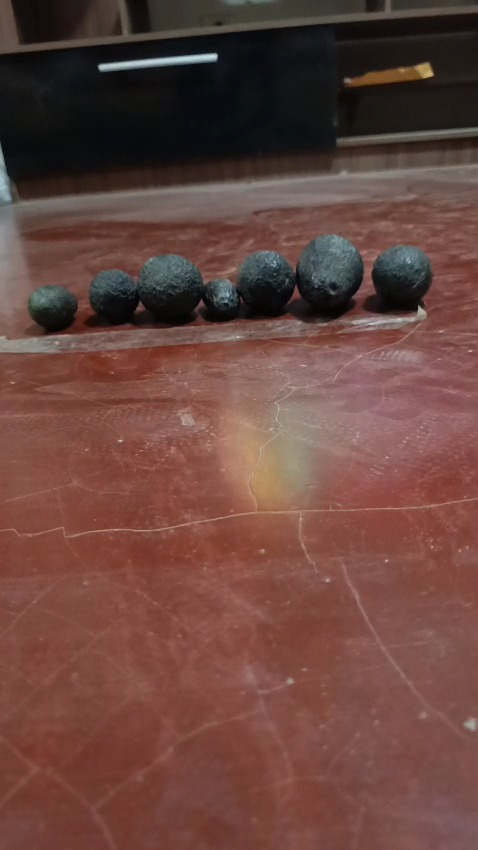Primera: (295, 233, 363, 312), (137, 254, 203, 322)
Segunda: (371, 244, 433, 310), (236, 250, 295, 315), (89, 268, 139, 323)
Tercera: (27, 283, 77, 330), (203, 278, 241, 320)
